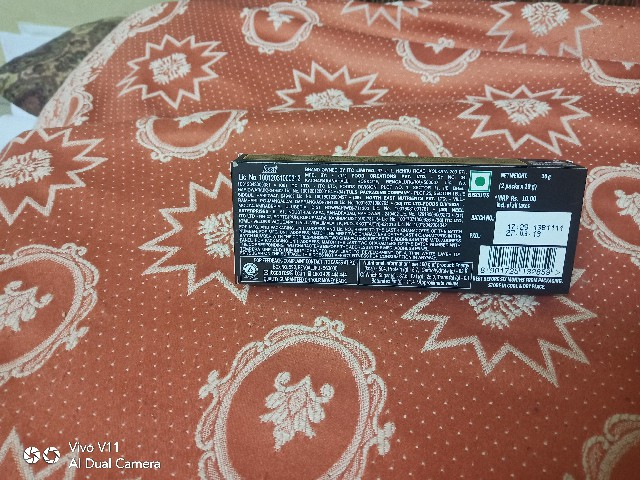darkfantasy small: (215, 143, 609, 306)
